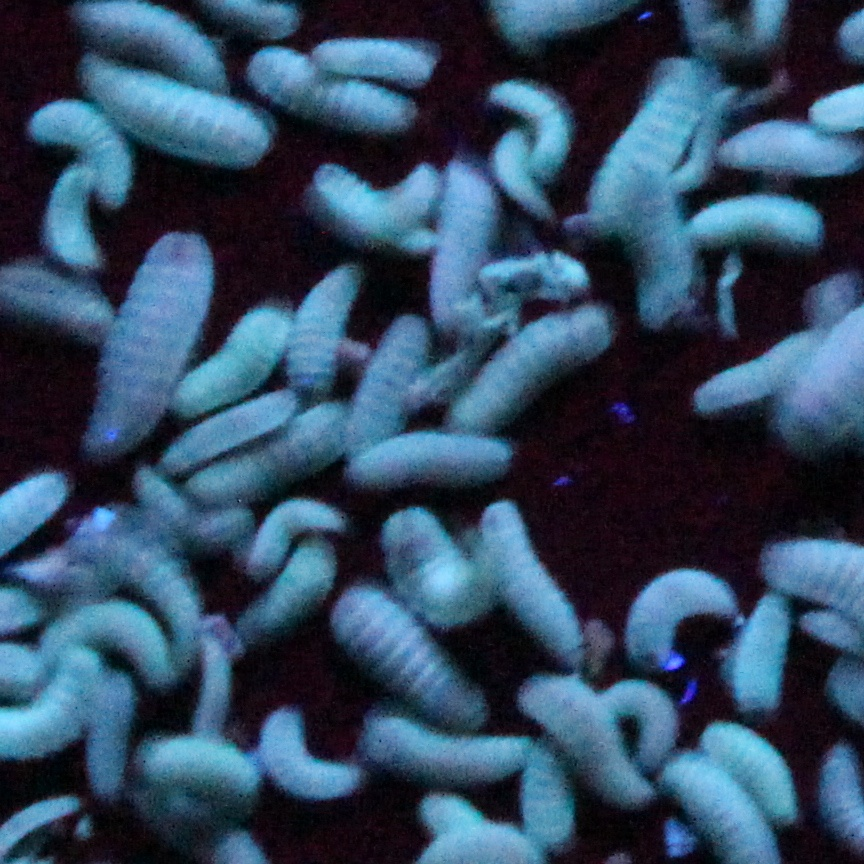larve: (103, 235, 207, 424), (592, 69, 701, 216), (112, 63, 265, 164), (474, 308, 600, 421), (347, 594, 470, 703), (528, 671, 626, 801), (500, 515, 577, 657), (631, 563, 723, 677), (77, 1, 212, 78), (209, 417, 335, 498), (317, 166, 435, 250), (189, 308, 286, 405), (258, 52, 407, 115), (31, 91, 130, 185), (400, 515, 482, 624), (121, 524, 191, 638), (165, 396, 281, 463), (442, 161, 491, 315), (716, 726, 800, 815), (374, 721, 517, 773), (270, 712, 361, 792), (633, 181, 688, 306), (701, 336, 817, 395), (363, 319, 421, 431), (296, 266, 347, 389), (47, 168, 110, 266), (310, 36, 435, 84), (51, 608, 168, 657), (694, 200, 813, 248), (256, 547, 326, 626), (353, 440, 509, 473), (507, 89, 570, 166), (147, 736, 246, 784), (140, 477, 231, 528), (737, 126, 850, 167), (524, 742, 572, 836), (254, 505, 324, 568), (626, 684, 675, 770), (750, 595, 784, 714), (495, 133, 542, 214), (95, 675, 126, 789), (202, 628, 226, 736), (431, 798, 484, 828)
